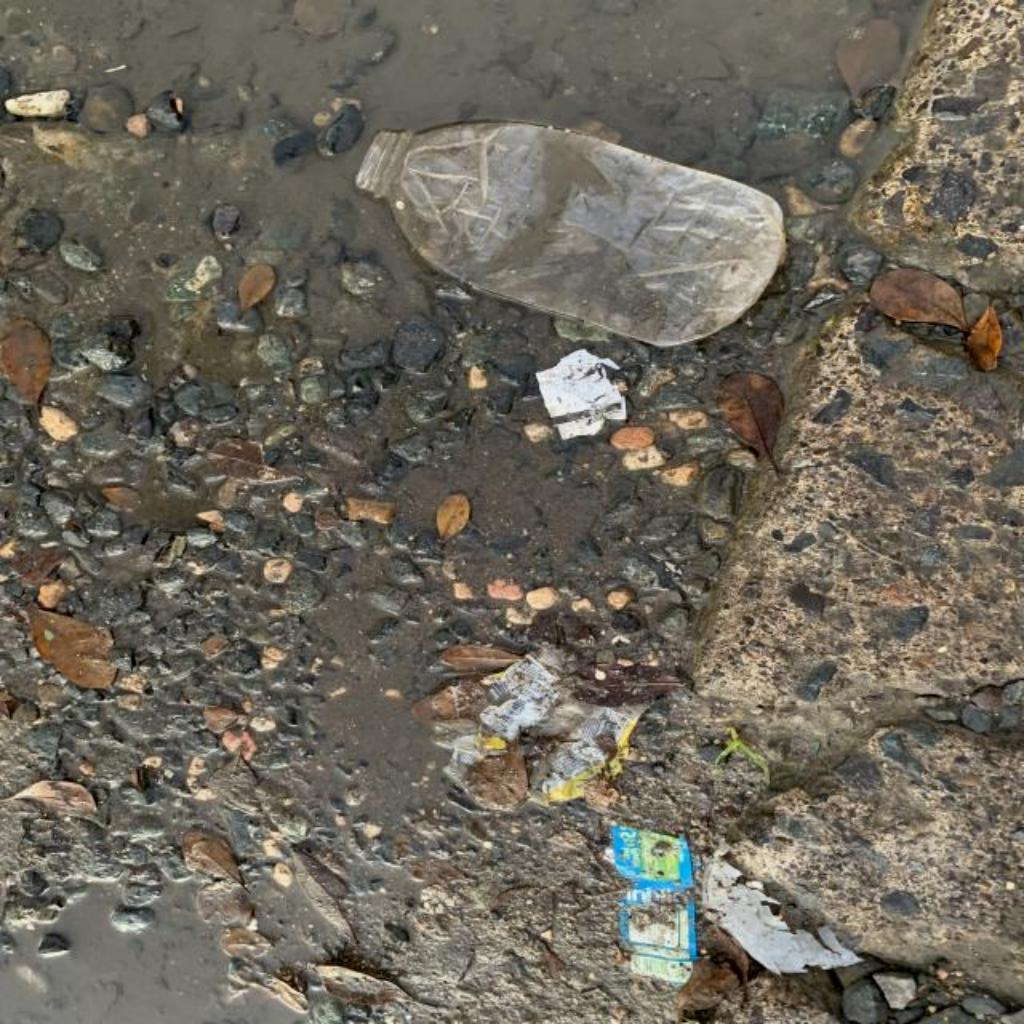garbage: (360, 119, 782, 348), (610, 825, 701, 980), (533, 350, 626, 443)
